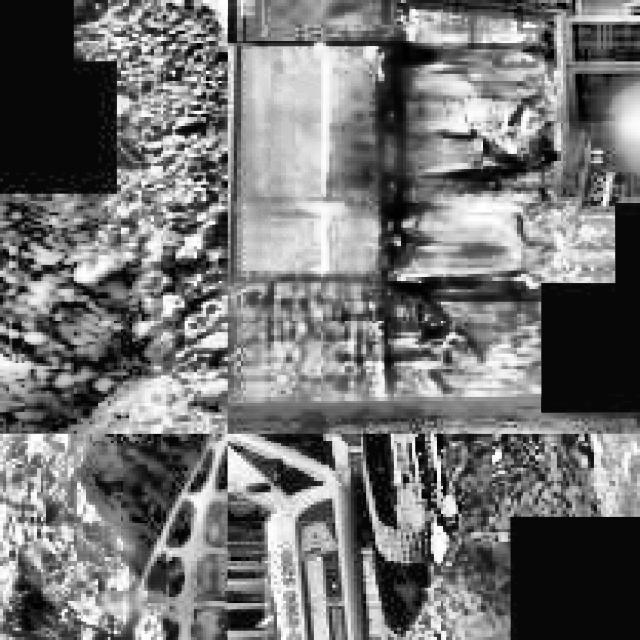dump_truck: (0, 0, 225, 431)
excavator: (227, 0, 640, 215), (228, 434, 529, 640)
